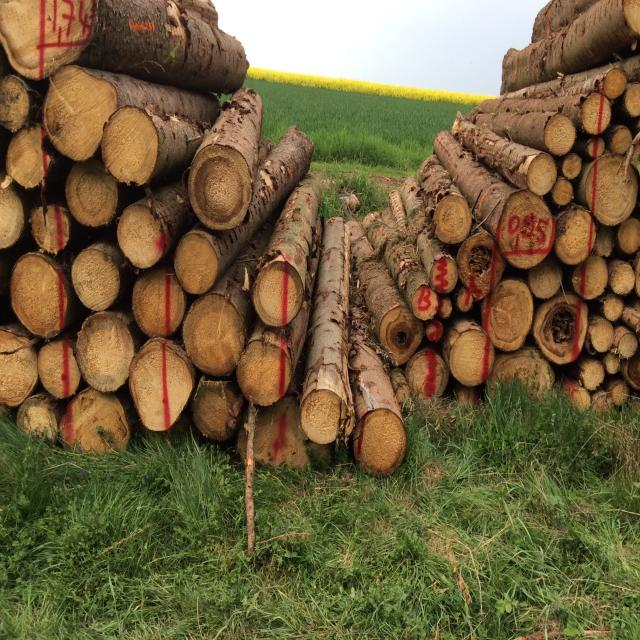wood-log: (0, 0, 96, 77), (44, 69, 120, 162), (129, 337, 196, 429), (12, 254, 74, 340), (182, 293, 246, 376), (74, 313, 134, 394), (188, 154, 251, 229), (496, 190, 556, 268), (102, 107, 160, 185), (59, 390, 130, 453), (252, 395, 309, 469), (234, 334, 292, 404), (579, 157, 637, 227), (132, 270, 188, 340), (481, 279, 535, 351), (538, 295, 589, 366), (66, 159, 118, 228), (253, 262, 306, 328), (118, 202, 169, 269), (354, 410, 405, 476), (69, 248, 120, 313), (191, 382, 244, 444), (5, 126, 52, 192), (457, 242, 508, 302), (444, 328, 494, 386), (176, 234, 222, 297), (0, 327, 37, 405), (39, 336, 84, 399), (554, 203, 597, 265), (300, 390, 341, 446), (30, 204, 72, 256), (406, 346, 448, 398), (15, 395, 58, 444), (436, 194, 472, 243), (573, 255, 610, 301), (0, 71, 28, 129), (0, 185, 25, 249), (528, 260, 562, 300), (546, 115, 578, 156), (528, 154, 558, 196), (581, 92, 609, 134), (410, 286, 440, 322), (432, 255, 460, 293), (611, 260, 637, 296), (589, 316, 614, 353), (619, 214, 640, 253), (580, 358, 605, 390), (611, 124, 635, 156), (605, 67, 628, 99), (622, 298, 640, 336), (602, 290, 624, 320), (552, 176, 574, 206), (618, 332, 640, 360), (624, 83, 640, 121), (562, 152, 582, 180), (624, 0, 640, 35), (626, 353, 640, 392), (425, 317, 445, 343), (456, 289, 473, 313), (604, 349, 620, 374), (587, 137, 606, 158), (613, 342, 625, 370), (631, 138, 640, 174), (633, 251, 640, 276)
